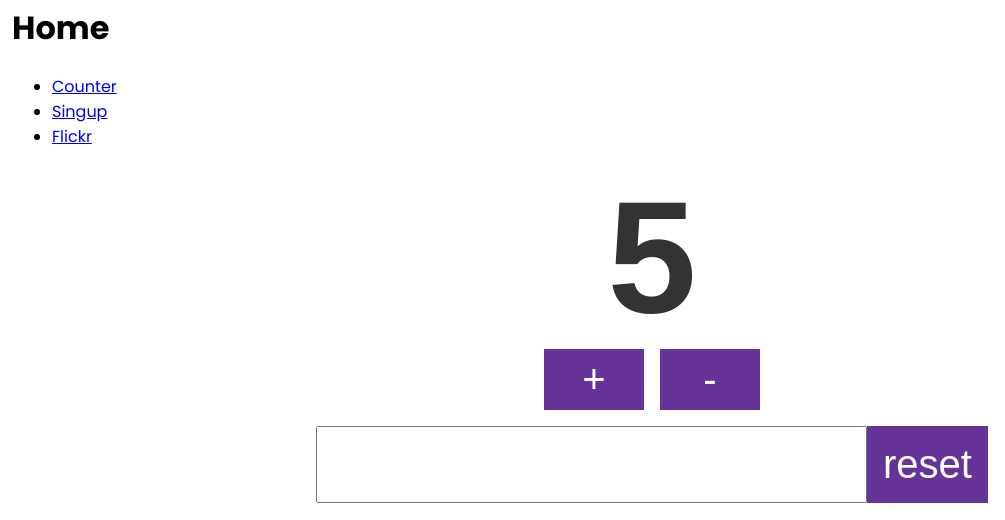
Test case: Counter › resets the count
Type "123" into the number field with test id "reset-input" at (592, 465), box [316,426,867,503]
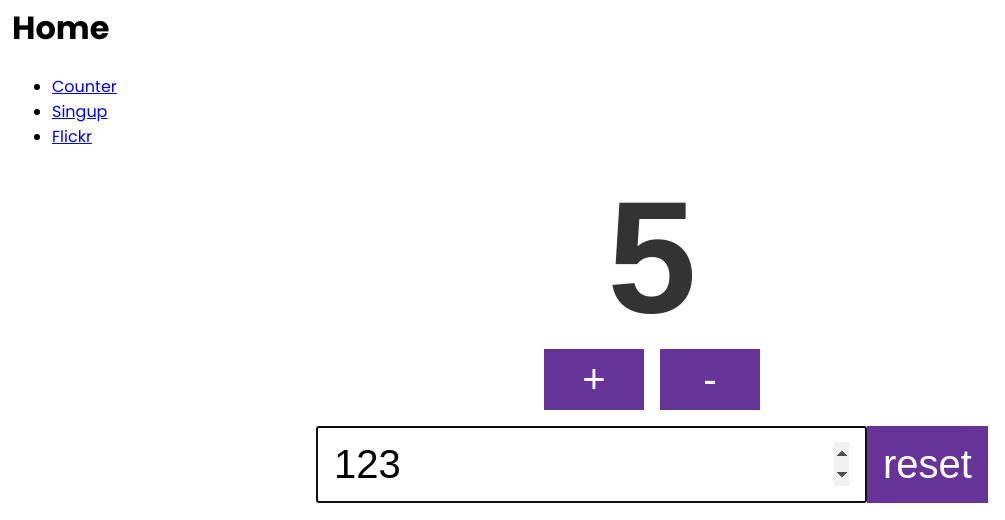
Click the button with test id "reset-button" at (928, 465), box [867,426,988,503]
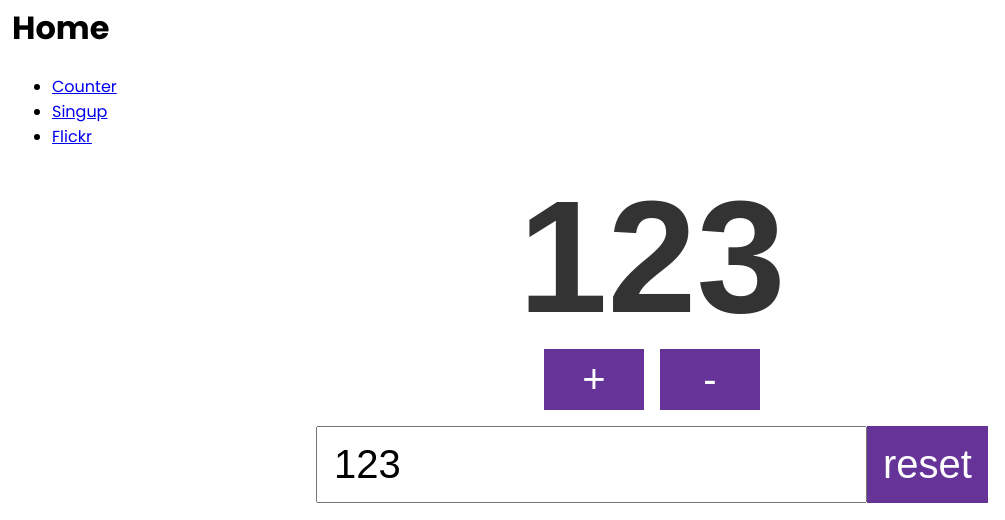
Result: the text with test id "count" reads "123" at [519,167,786,346]
